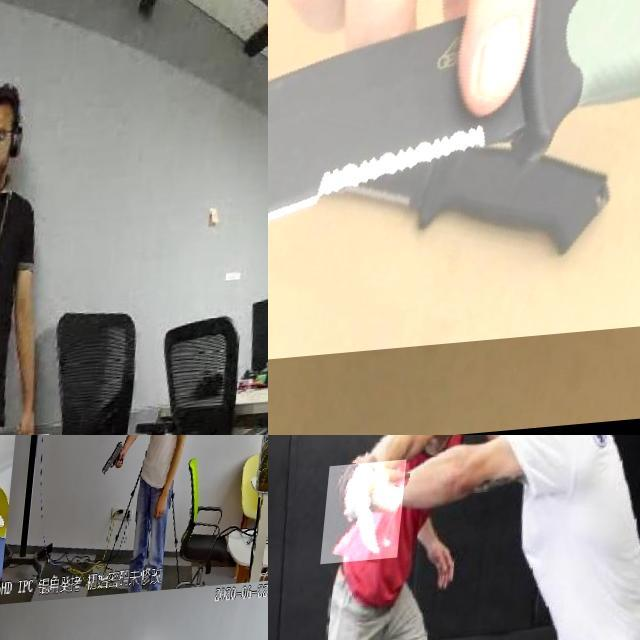-: (268, 0, 640, 373), (326, 464, 410, 568)
gun-knife-thesis - v11 Yolov5 augmented: (104, 444, 129, 482), (0, 435, 15, 453)
